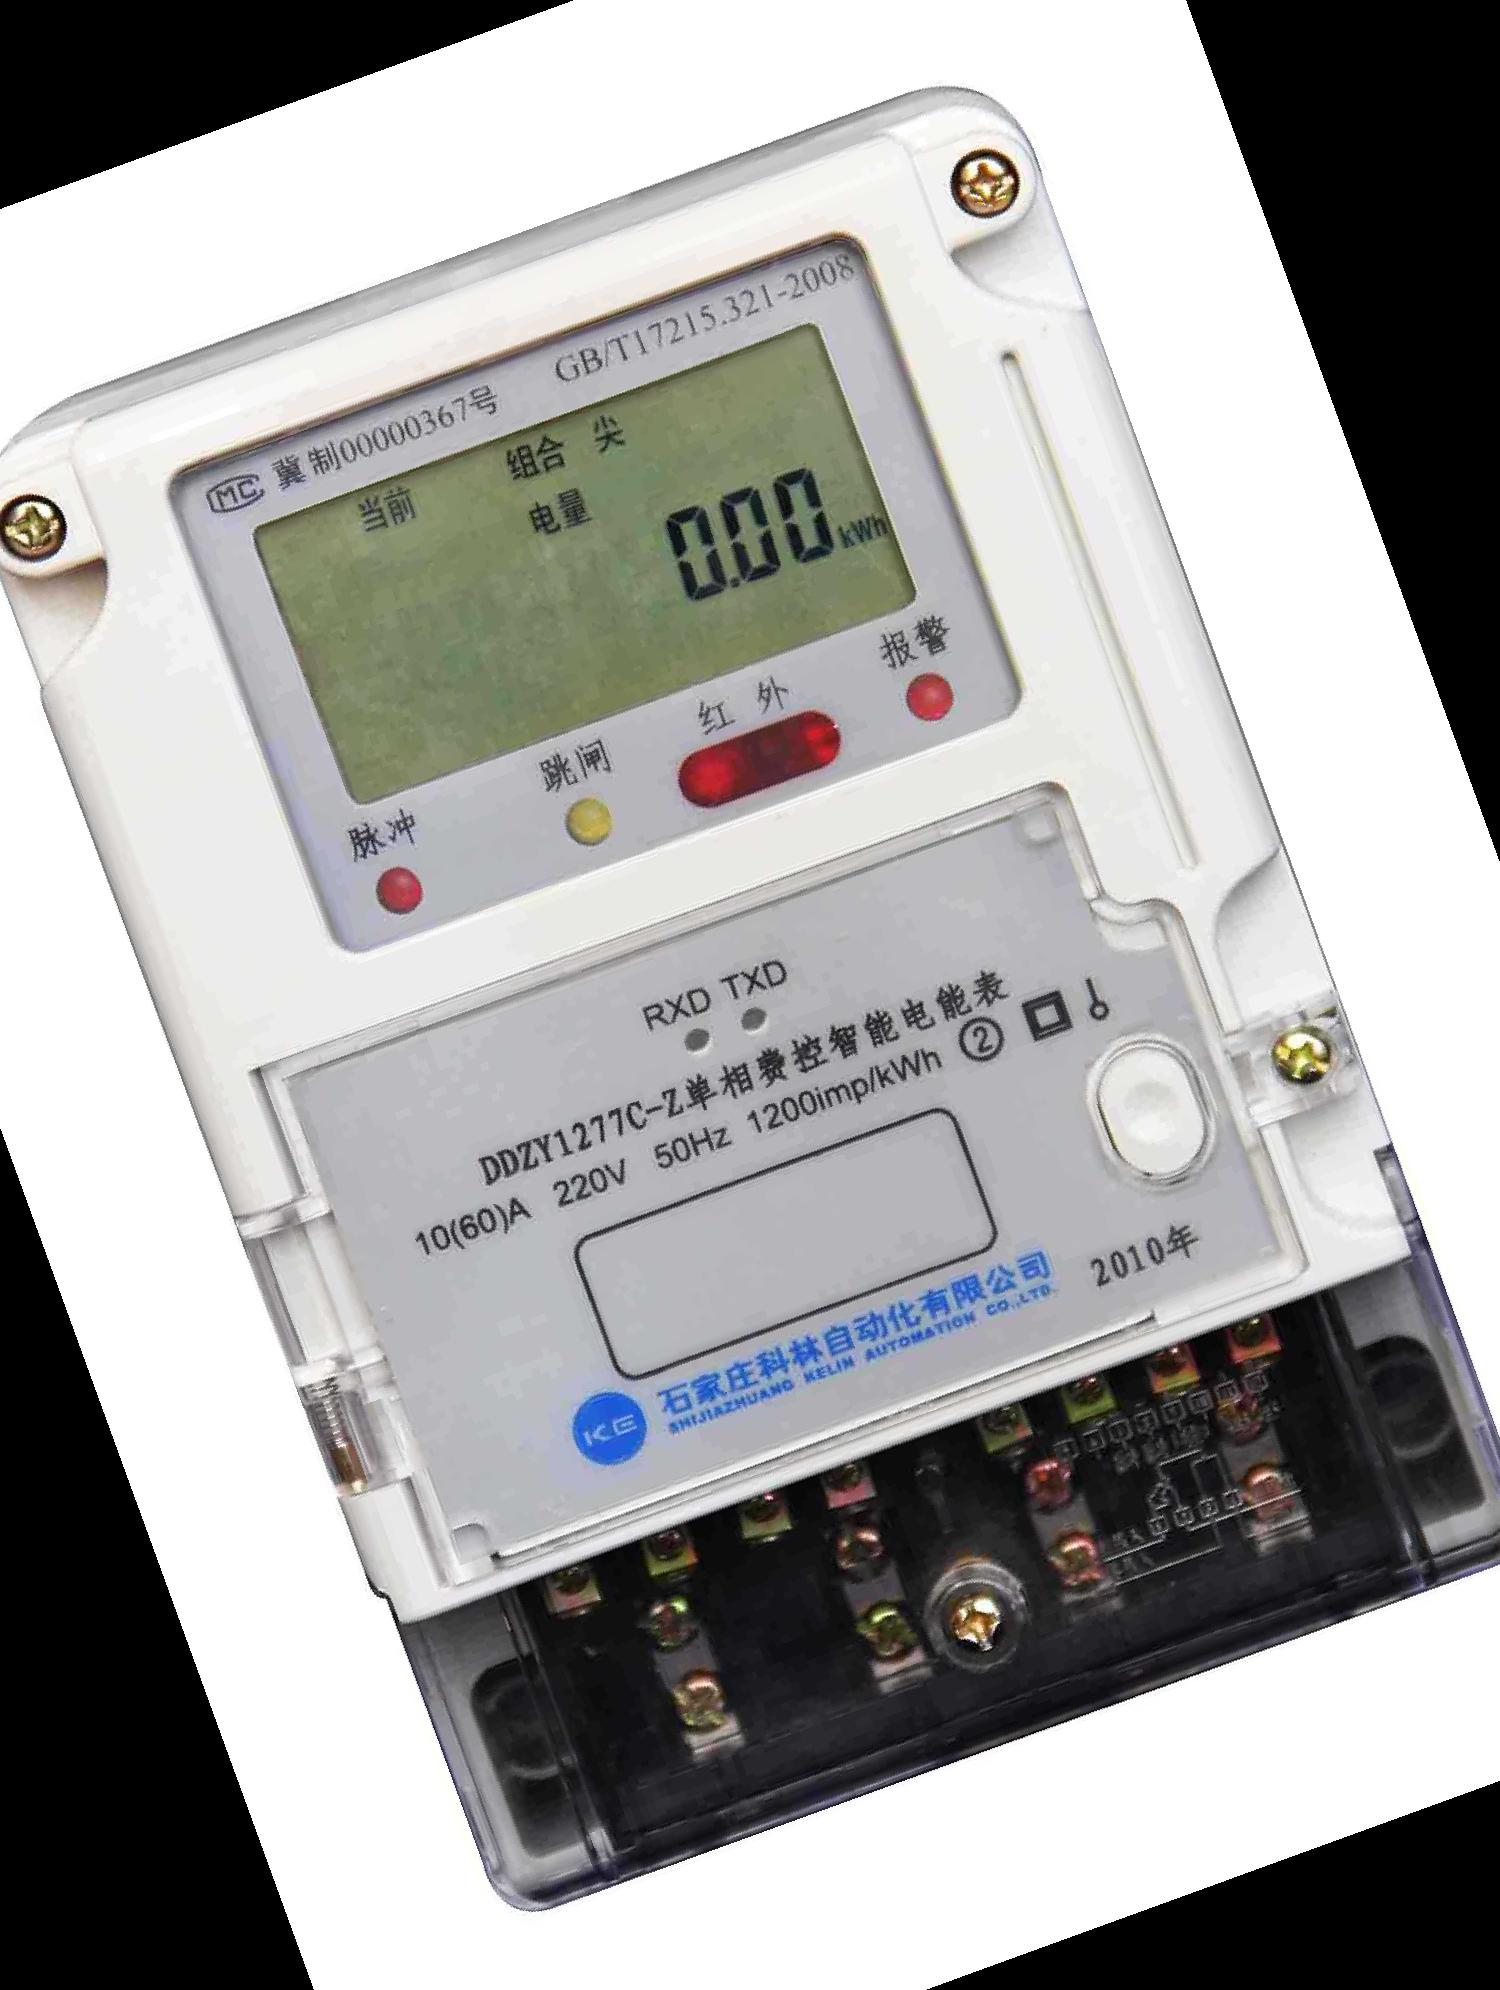digital: (2, 109, 1409, 1617)
